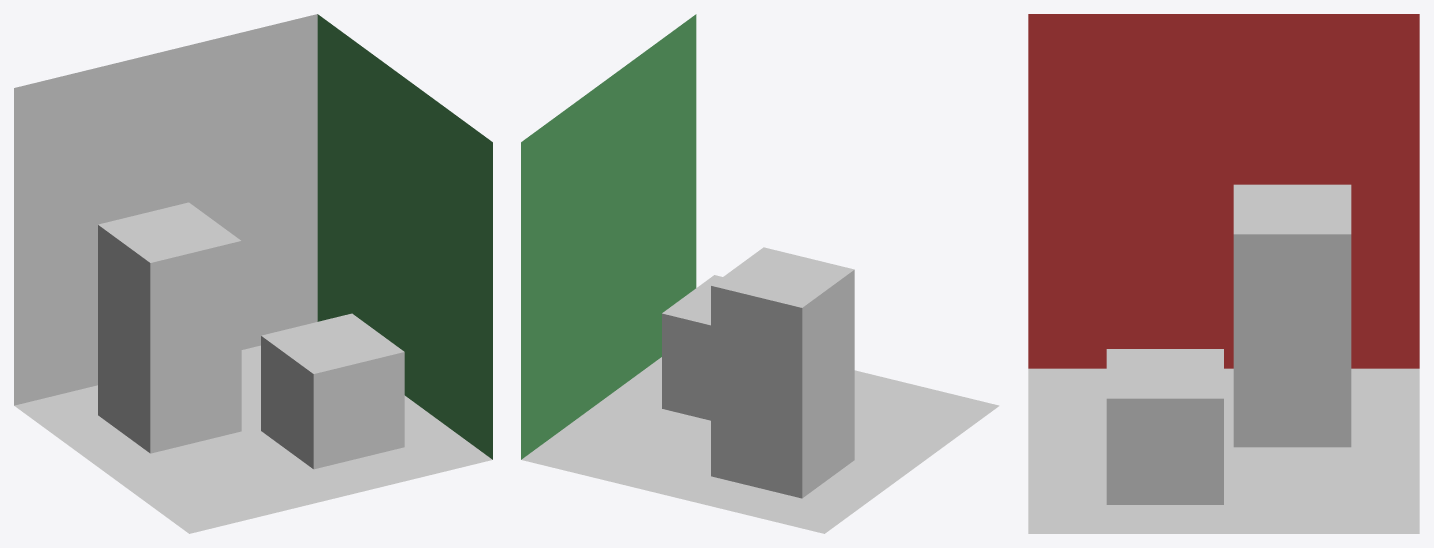
File: cornell_box.glb
The picture shows the model from 3 angles, left to right: view 1: azimuth 30°, elevation 25°; view 2: azimuth 150°, elevation 25°; view 3: azimuth 270°, elevation 25°; orthographic projection. The views are drawn at different scales.
Visible parts, largest first — view 1: BackWall, RightWall, TallBlock, Floor, ShortBlock; view 2: RightWall, TallBlock, Floor, ShortBlock; view 3: LeftWall, Floor, TallBlock, ShortBlock.
Boxes of the visible parts, bbox=[...] form: BackWall: bbox=[14, 14, 317, 405]; RightWall: bbox=[317, 14, 492, 459]; TallBlock: bbox=[98, 202, 241, 453]; Floor: bbox=[14, 345, 492, 533]; ShortBlock: bbox=[261, 313, 404, 469]; RightWall: bbox=[521, 14, 696, 459]; TallBlock: bbox=[711, 247, 854, 498]; Floor: bbox=[521, 357, 999, 533]; ShortBlock: bbox=[662, 275, 722, 420]; LeftWall: bbox=[1028, 14, 1419, 368]; Floor: bbox=[1028, 368, 1419, 533]; TallBlock: bbox=[1233, 184, 1351, 447]; ShortBlock: bbox=[1106, 349, 1223, 504].
Size of the model in its own units: 2 by 2 by 2.
